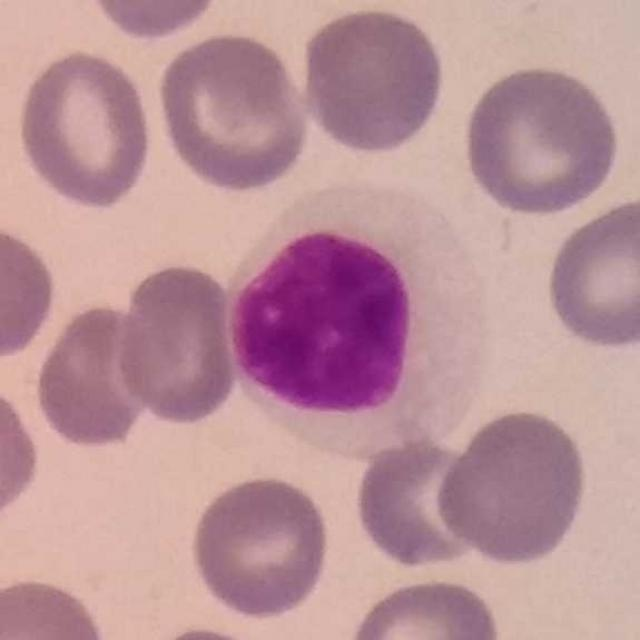Lymphocyte: (224, 173, 493, 466)
RBC: (152, 27, 314, 196), (431, 405, 593, 570), (458, 60, 624, 218), (12, 44, 157, 212), (294, 2, 450, 158), (111, 258, 243, 429), (186, 471, 335, 622), (29, 298, 156, 452), (350, 435, 488, 573), (541, 190, 640, 353), (343, 573, 505, 640), (0, 218, 60, 364), (0, 572, 111, 640), (0, 376, 43, 534), (83, 0, 223, 42), (133, 622, 290, 640)
